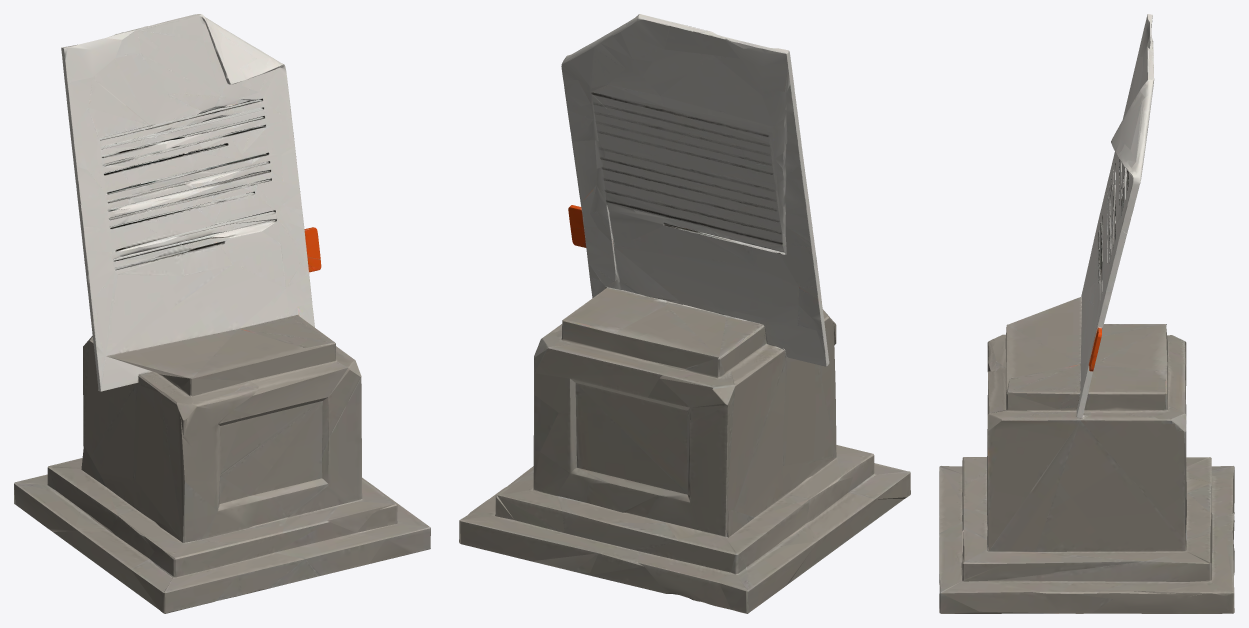
The model's file is resume.glb.
The picture shows the model from 3 angles, left to right: view 1: azimuth 30°, elevation 25°; view 2: azimuth 150°, elevation 25°; view 3: azimuth 270°, elevation 25°; orthographic projection. The views are drawn at different scales.
Size of the model in its own units: 1.09 by 1.9 by 1.07.
1 material, 1 textured.
